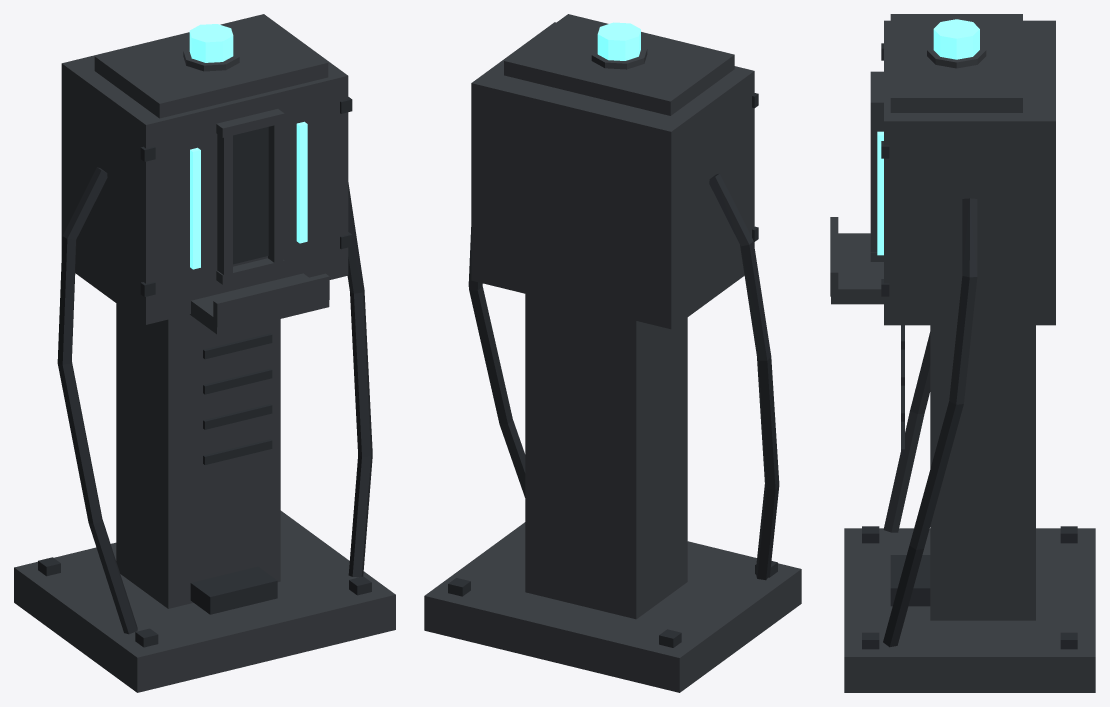
Rendered from BatteryStation.fbx.
The picture shows the model from 3 angles, left to right: view 1: azimuth 30°, elevation 25°; view 2: azimuth 150°, elevation 25°; view 3: azimuth 270°, elevation 25°; orthographic projection. The views are drawn at different scales.
Visible parts, largest first — view 1: BatteryStation; view 2: BatteryStation; view 3: BatteryStation.
Part boxes in pixels (bbox=[...]): BatteryStation: bbox=[14, 14, 395, 692]; BatteryStation: bbox=[424, 14, 801, 692]; BatteryStation: bbox=[830, 14, 1095, 692].
Size of the model in its own units: 0.5421 by 1 by 0.401.
